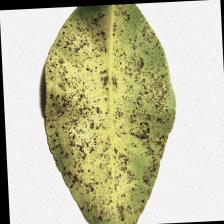canker: (54, 44, 158, 158)
